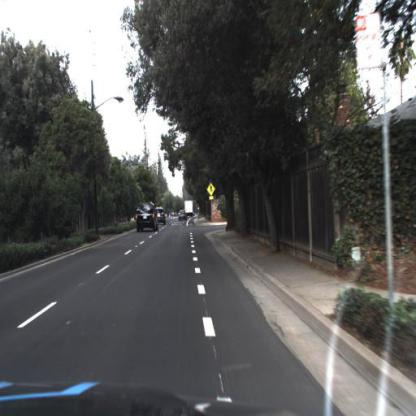car: (136, 202, 159, 233), (155, 208, 167, 228), (184, 200, 195, 216), (179, 210, 189, 222)
truck: (182, 197, 195, 223)
